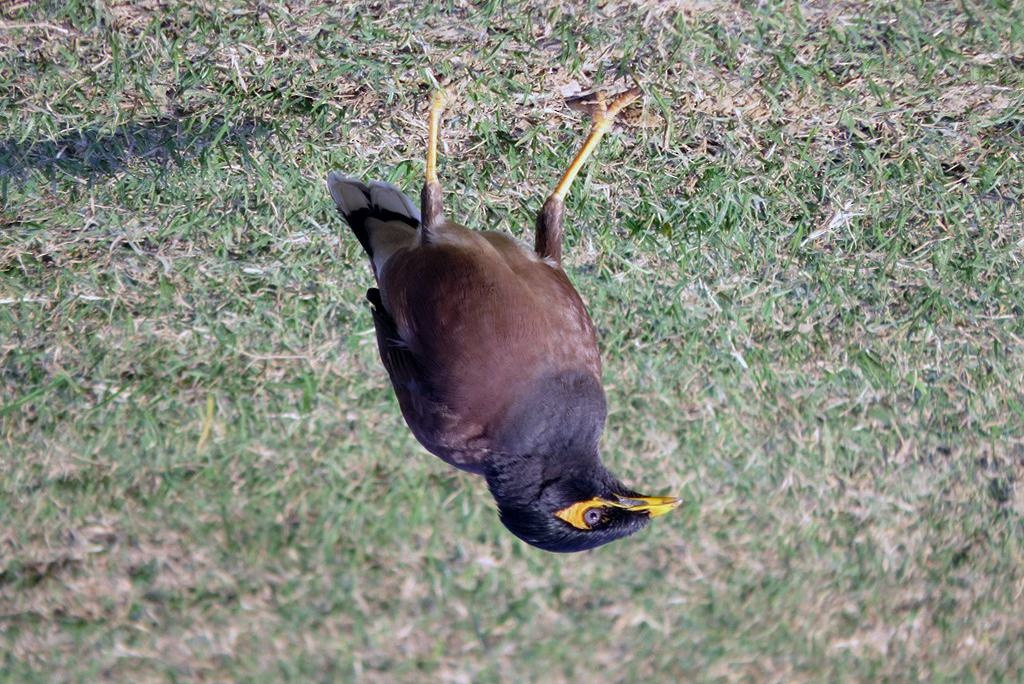myna: (359, 95, 683, 546)
